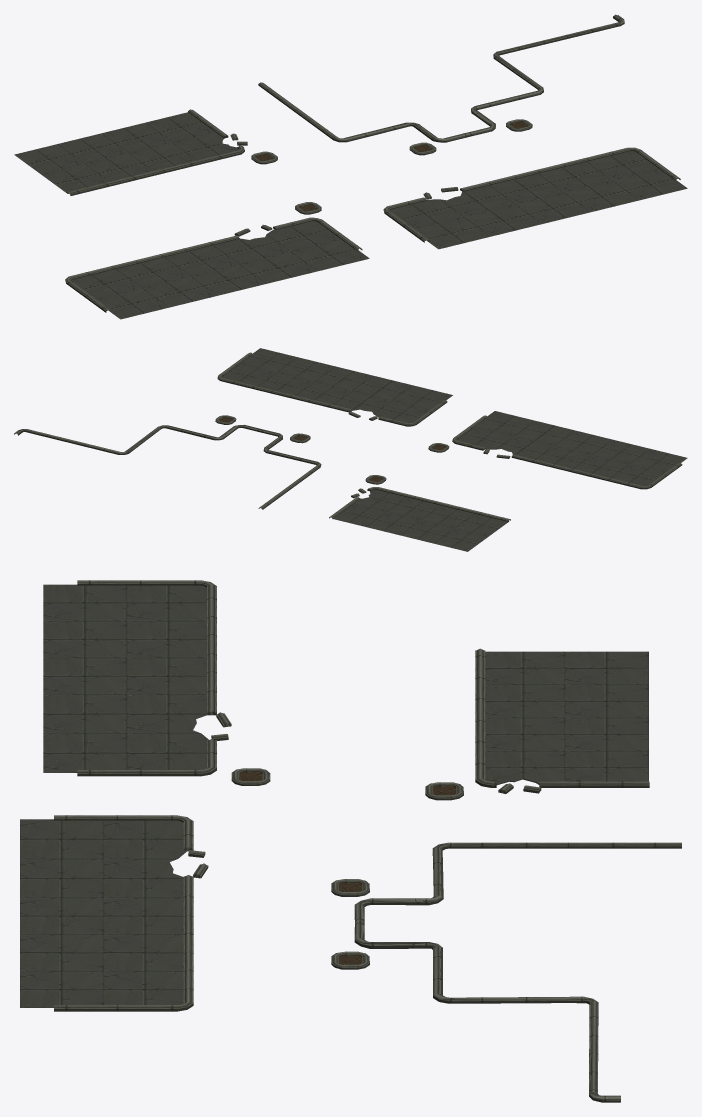
File: area_01.fbx
3 views of the same model, one above another, from view 1: azimuth 30°, elevation 25°; view 2: azimuth 150°, elevation 25°; view 3: azimuth 270°, elevation 25° (orthographic). The views are drawn at different scales.
Parts seen in each view (by area): view 1: area_01; view 2: area_01; view 3: area_01.
Boxes of the visible parts, bbox=[...] form: area_01: bbox=[14, 14, 687, 319]; area_01: bbox=[14, 348, 687, 551]; area_01: bbox=[20, 580, 681, 1102].
Size of the model in its own units: 6560 by 28.66 by 3530.
Materials: 1 (1 with a texture image).
